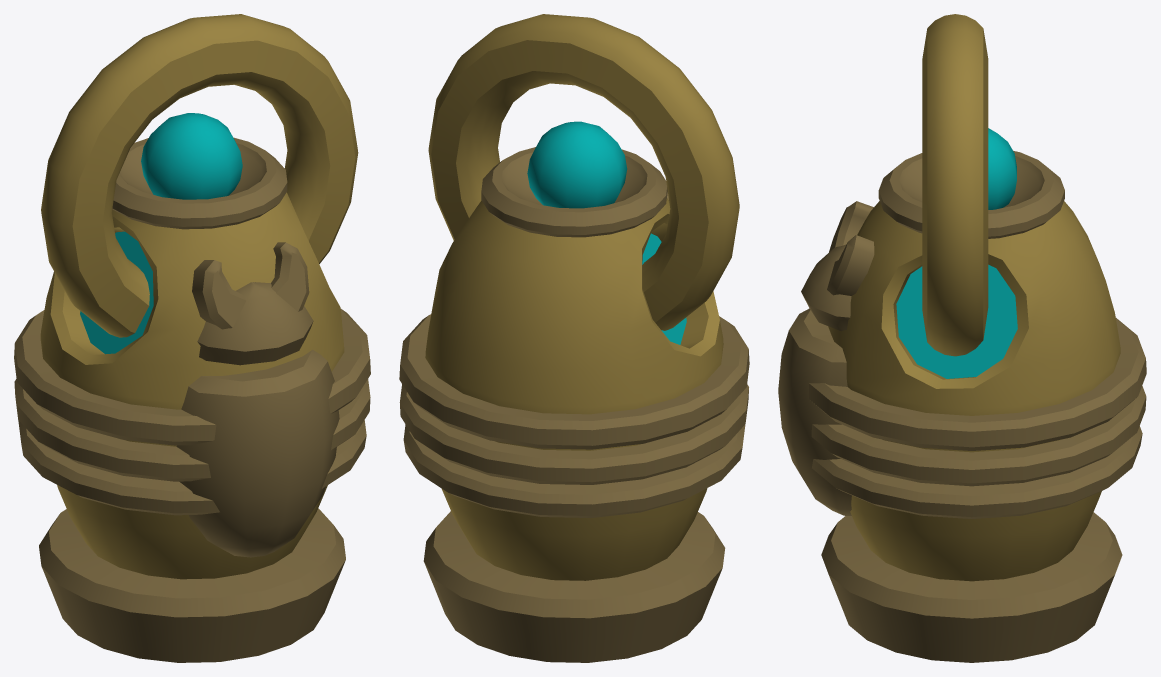
File: SM_Idol.fbx
3 renders of one model, left to right at view 1: azimuth 30°, elevation 25°; view 2: azimuth 150°, elevation 25°; view 3: azimuth 270°, elevation 25°, orthographic. The views are drawn at different scales.
Visible parts, largest first — view 1: SM_Idol; view 2: SM_Idol; view 3: SM_Idol.
Part boxes in pixels (x1,y1,x2,y2): SM_Idol: (14, 14, 370, 662); SM_Idol: (399, 14, 749, 662); SM_Idol: (778, 14, 1146, 662).
Size of the model in its own units: 73.44 by 134 by 77.37.
